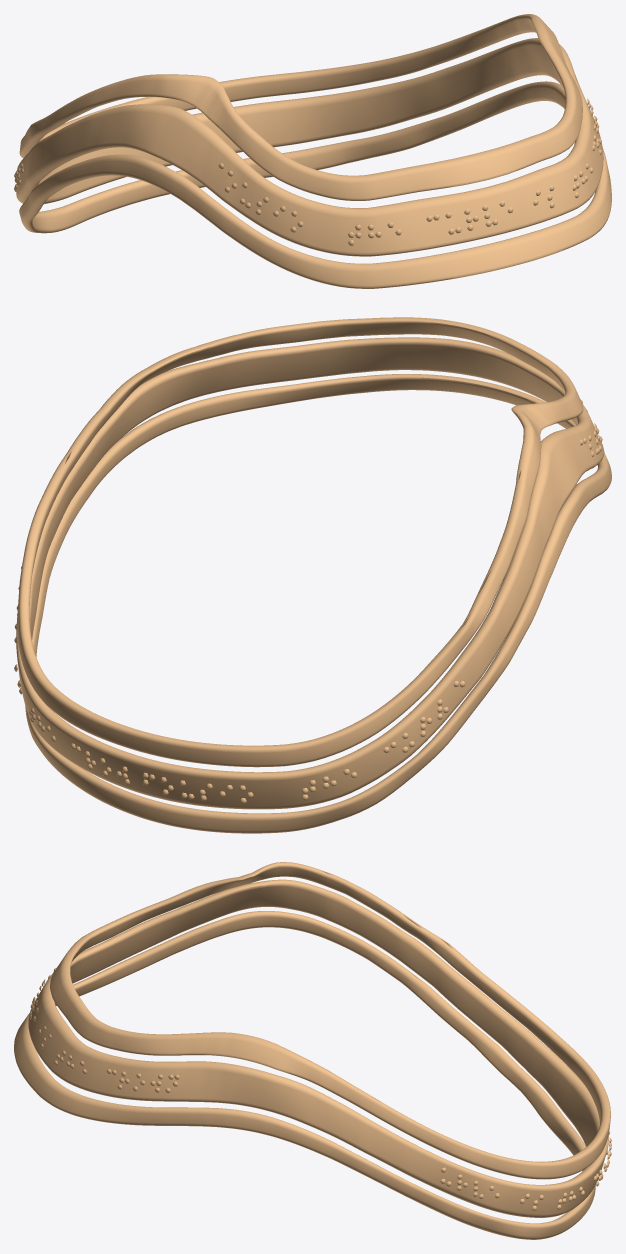
File: circlet-f.glb
The picture shows the model from 3 angles, top to bottom: view 1: azimuth 30°, elevation 25°; view 2: azimuth 150°, elevation 25°; view 3: azimuth 270°, elevation 25°; orthographic projection. The views are drawn at different scales.
Visible parts, largest first — view 1: crown-body, braille-dots; view 2: crown-body, braille-dots; view 3: crown-body, braille-dots.
Part boxes in pixels (x1,y1,x2,y2): crown-body: [16, 14, 611, 288]; braille-dots: [14, 98, 602, 245]; crown-body: [16, 317, 611, 833]; braille-dots: [14, 400, 602, 803]; crown-body: [14, 862, 610, 1239]; braille-dots: [29, 968, 611, 1210].
Size of the model in its own units: 0.1741 by 0.1063 by 0.2246.
